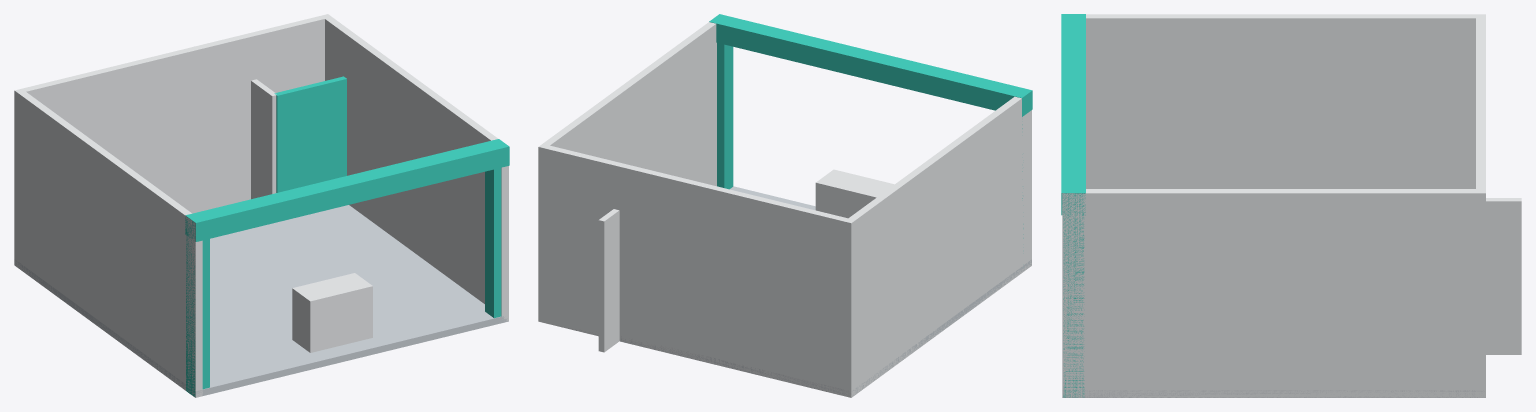
3 views of the same model, side by side, from view 1: azimuth 30°, elevation 25°; view 2: azimuth 150°, elevation 25°; view 3: azimuth 270°, elevation 25° (orthographic). The views are drawn at different scales.
Parts seen in each view (by area): view 1: Exhibition Booth Concept; view 2: Exhibition Booth Concept; view 3: Exhibition Booth Concept.
Part boxes in pixels (bbox=[...]): Exhibition Booth Concept: bbox=[14, 14, 509, 397]; Exhibition Booth Concept: bbox=[538, 14, 1032, 397]; Exhibition Booth Concept: bbox=[1061, 14, 1521, 397].
Size of the model in its own units: 6 by 3.2 by 6.52.
